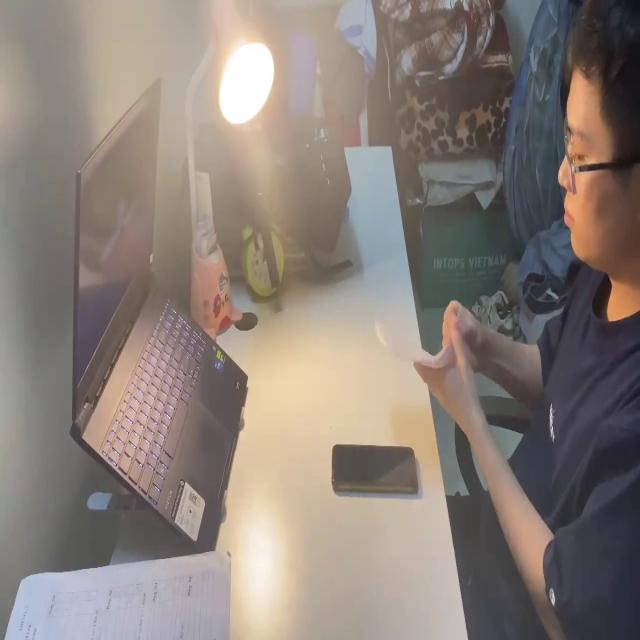book: (0, 550, 232, 640), (376, 308, 463, 382)
laptop: (66, 73, 247, 550)
phone: (331, 441, 418, 498)
student: (410, 30, 640, 640)
